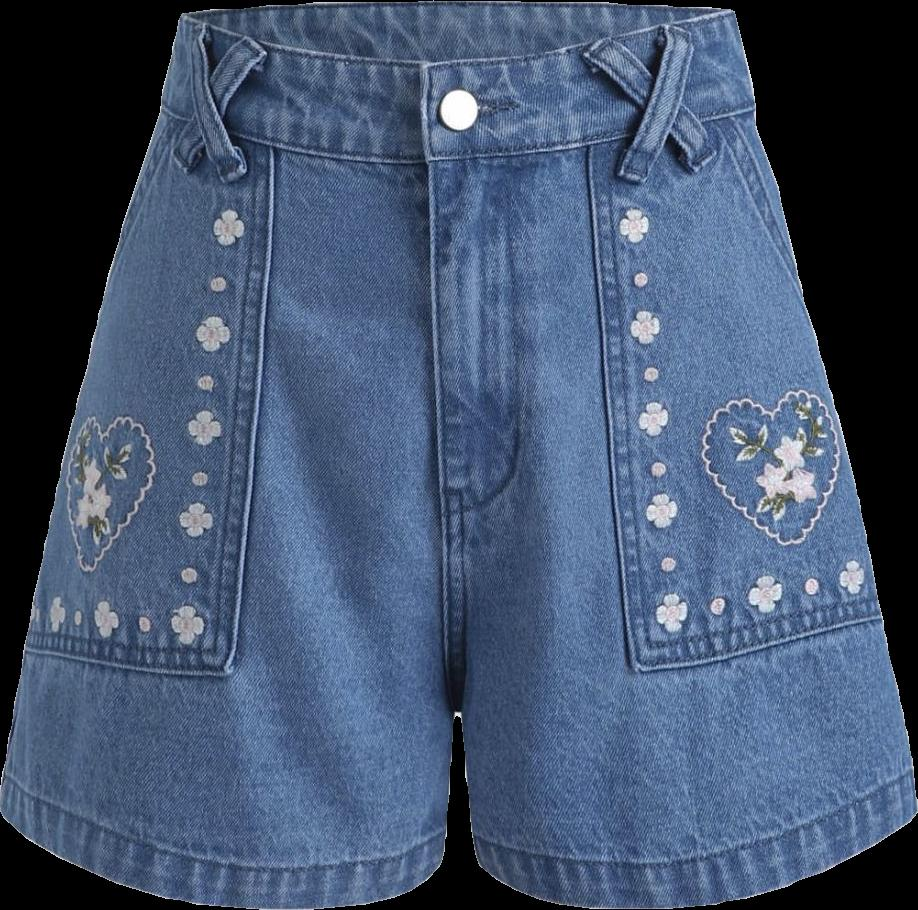Hemline: (0, 802, 459, 909), (472, 808, 917, 909)
Pantleg: (420, 0, 916, 907), (0, 2, 455, 909)
Waistline: (159, 103, 758, 166), (180, 6, 738, 66)
